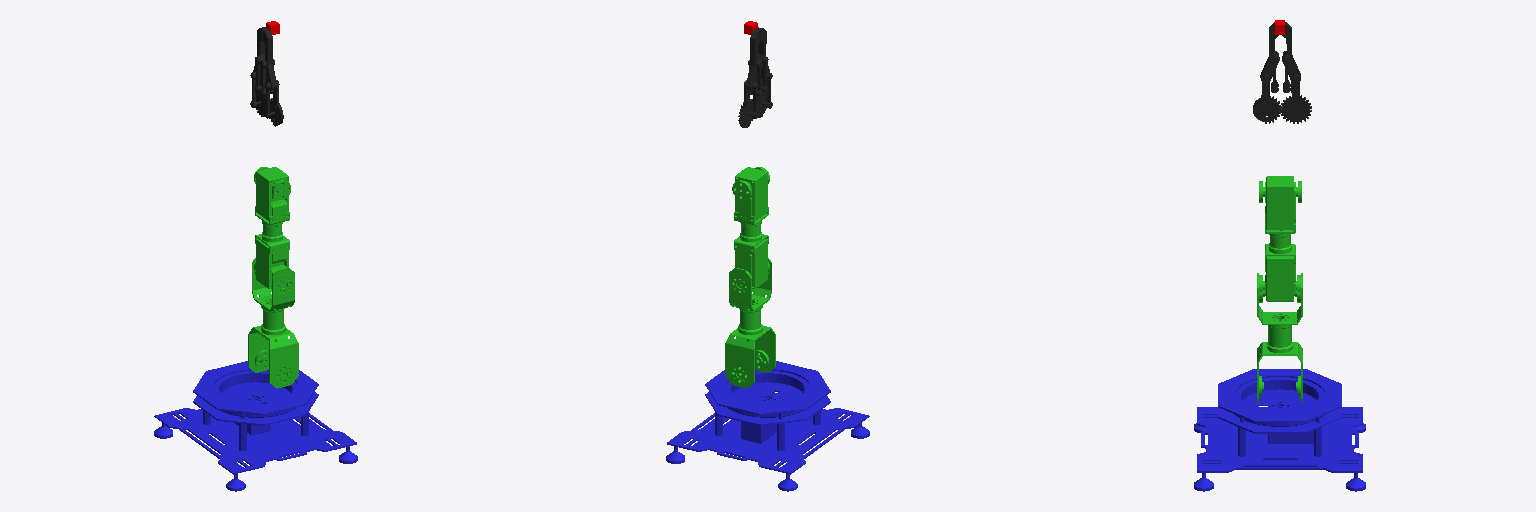
URDF robot description (xarm_controller_x):
<?xml version="1.0" ?>
<!-- =================================================================================== -->
<!-- |    This document was autogenerated by xacro from xarm_controller_x.urdf.xacro   | -->
<!-- |    EDITING THIS FILE BY HAND IS NOT RECOMMENDED                                 | -->
<!-- =================================================================================== -->
<robot name="xarm_controller_x">
  <link name="world"/>
  <joint name="world_fixed" type="fixed">
    <origin rpy="0 0 0" xyz="0 0 0"/>
    <parent link="world"/>
    <child link="base1"/>
  </joint>
  <!-- BASE -->
  <link name="base1">
    <visual>
      <origin rpy="0 0 0" xyz="-0.0725 0 0"/>
      <geometry>
        <mesh filename="package://xarm_controller_description/meshes/xarm_controller_x/base1.stl" scale="0.001 0.001 0.001"/>
      </geometry>
      <material name="blue">
        <color rgba="0.2 0.2 0.9 1"/>
      </material>
    </visual>
    <collision>
      <origin rpy="0 0 0" xyz="0 0 0"/>
      <geometry>
        <mesh filename="package://xarm_controller_description/meshes/xarm_controller_x/base1.stl" scale="0.001 0.001 0.001"/>
      </geometry>
    </collision>
  </link>
  <!-- Joint 1 :: base -to- link1 -->
  <joint name="joint1" type="revolute">
    <parent link="base1"/>
    <child link="link1"/>
    <origin rpy="0 0 0" xyz="0.0 0.0 0.063"/>
    <axis xyz="0 0 1"/>
    <limit effort="1000" lower="-2.7" upper="2.7" velocity="4.8"/>
    <dynamics damping="0.1"/>
  </joint>
  <!-- link1 -->
  <link name="link1">
    <visual>
      <origin rpy="0 0 0" xyz="-0.0405 -0.0405 0.0"/>
      <geometry>
        <mesh filename="package://xarm_controller_description/meshes/xarm_controller_x/link1.stl" scale="0.001 0.001 0.001"/>
      </geometry>
      <material name="red">
        <color rgba="0.8 0.2 0.2 1"/>
      </material>
    </visual>
    <collision>
      <origin rpy="0 0 0" xyz="0 0 0.0"/>
      <geometry>
        <mesh filename="package://xarm_controller_description/meshes/xarm_controller_x/link1.stl" scale="0.001 0.001 0.001"/>
      </geometry>
    </collision>
    <inertial>
      <origin xyz="-3.0184870e-04 5.4043684e-04 0.047433463999999995"/>
      <mass value="9.8406837e-02"/>
      <inertia ixx="3.4543422e-05" ixy="-1.6031095e-08" ixz="-3.8375155e-07" iyy="3.2689329e-05" iyz="2.8511935e-08" izz="1.8850320e-05"/>
    </inertial>
  </link>
  <!-- Joint 2 :: link1-to-link2 -->
  <joint name="joint2" type="revolute">
    <parent link="link1"/>
    <child link="link2"/>
    <origin rpy="0 0 0" xyz="0.02 0.0 0.02"/>
    <axis xyz="0 1 0"/>
    <limit effort="1000" lower="-1.5" upper="1.5" velocity="4.8"/>
    <dynamics damping="0.1"/>
  </joint>
  <!-- link2 -->
  <link name="link2">
    <visual>
      <origin rpy="0 0 0" xyz="-0.0095 0 -0.0138"/>
      <geometry>
        <mesh filename="package://xarm_controller_description/meshes/xarm_controller_x/link2.stl" scale="0.001 0.001 0.001"/>
      </geometry>
      <material name="green">
        <color rgba="0.2 0.8 0.2 1"/>
      </material>
    </visual>
    <collision>
      <origin rpy="0 0 0" xyz="0 0 0"/>
      <geometry>
        <mesh filename="package://xarm_controller_description/meshes/xarm_controller_x/link2.stl" scale="0.001 0.001 0.001"/>
      </geometry>
    </collision>
    <inertial>
      <origin xyz="1.0308393e-02 3.7743363e-04 1.0170197e-01"/>
      <mass value="1.3850917e-01"/>
      <inertia ixx="3.3055381e-04" ixy="-9.7940978e-08" ixz="-3.8505711e-05" iyy="3.4290447e-04" iyz="-1.5717516e-06" izz="6.0346498e-05"/>
    </inertial>
  </link>
  <!-- Joint 3 :: link2-to-link3-->
  <joint name="joint3" type="revolute">
    <parent link="link2"/>
    <child link="link3"/>
    <origin rpy="0 0 0" xyz="0.0 0 0.101"/>
    <axis xyz="0 1 0"/>
    <limit effort="1000" lower="-1.5" upper="1.5" velocity="4.8"/>
    <dynamics damping="0.1"/>
  </joint>
  <!-- link3 -->
  <link name="link3">
    <visual>
      <origin rpy="0 0 0" xyz="-0.01046 -0.01971 -0.01066"/>
      <geometry>
        <mesh filename="package://xarm_controller_description/meshes/xarm_controller_x/link3.stl" scale="0.001 0.001 0.001"/>
      </geometry>
      <material name="red">
        <color rgba="0.2 0.8 0.2 1"/>
      </material>
    </visual>
    <collision>
      <origin rpy="0 0 0" xyz="0 0 0"/>
      <geometry>
        <mesh filename="package://xarm_controller_description/meshes/xarm_controller_x/link3.stl" scale="0.001 0.001 0.001"/>
      </geometry>
    </collision>
    <inertial>
      <origin xyz="9.0909590e-02 3.8929816e-04 2.2413279e-04"/>
      <mass value="1.3274562e-01"/>
      <inertia ixx="3.0654178e-05" ixy="-1.2764155e-06" ixz="-2.6874417e-07" iyy="2.4230292e-04" iyz="1.1559550e-08" izz="2.5155057e-04"/>
    </inertial>
  </link>
  <!-- Joint 4 link3-to-link4-->
  <joint name="joint4" type="revolute">
    <parent link="link3"/>
    <child link="link4"/>
    <origin rpy="0 0 0" xyz="0.0 0.0 0.095"/>
    <axis xyz="0 1 0"/>
    <limit effort="1000" lower="-1.7" upper="1.7" velocity="4.8"/>
    <dynamics damping="0.1"/>
  </joint>
  <!-- link4 -->
  <link name="link4">
    <visual>
      <origin rpy="0 0 0" xyz="-0.0105 -0.0195 -0.012"/>
      <geometry>
        <mesh filename="package://xarm_controller_description/meshes/xarm_controller_x/link4.stl" scale="0.001 0.001 0.001"/>
      </geometry>
      <material name="green">
        <color rgba="0.2 0.8 0.2 1"/>
      </material>
    </visual>
    <collision>
      <origin rpy="0 0 0" xyz="0 0 0"/>
      <geometry>
        <mesh filename="package://xarm_controller_description/meshes/xarm_controller_x/link4.stl" scale="0.001 0.001 0.001"/>
      </geometry>
    </collision>
    <inertial>
      <origin xyz="4.4206755e-02 3.6839985e-07 8.9142216e-03"/>
      <mass value="1.4327573e-01"/>
      <inertia ixx="8.0870749e-05" ixy="0.0" ixz="-1.0157896e-06" iyy="7.5980465e-05" iyz="0.0" izz="9.3127351e-05"/>
    </inertial>
  </link>
  <!-- Joint 5 :: link4-to-link5-->
  <joint name="joint5" type="revolute">
    <parent link="link4"/>
    <child link="link5"/>
    <origin rpy="0 0 0" xyz="0.0 0.0 0.068"/>
    <axis xyz="0 0 1"/>
    <limit effort="1000" lower="-1.7" upper="1.7" velocity="4.8"/>
    <dynamics damping="0.1"/>
  </joint>
  <!-- Link 5: Wrist Spacer -->
  <link name="link5">
    <visual>
      <origin rpy="0 0 0" xyz="-0.0015 -0.0085 -0.0168"/>
      <geometry>
        <mesh filename="package://xarm_controller_description/meshes/xarm_controller_x/link5.stl" scale="0.001 0.001 0.001"/>
      </geometry>
      <material name="red">
        <color rgba="1.0 0.0 0.0 1"/>
      </material>
    </visual>
    <collision>
      <origin rpy="0 1.5708 0" xyz="0 0 0"/>
      <geometry>
        <mesh filename="package://xarm_controller_description/meshes/xarm_controller_x/link5.stl" scale="0.001 0.001 0.001"/>
      </geometry>
    </collision>
    <inertial>
      <origin xyz="4.4206755e-02 3.6839985e-07 8.9142216e-03"/>
      <mass value="1.4327573e-01"/>
      <inertia ixx="8.0870749e-05" ixy="0.0" ixz="-1.0157896e-06" iyy="7.5980465e-05" iyz="0.0" izz="9.3127351e-05"/>
    </inertial>
  </link>
  <!-- Joint 6 Left Gripper -->
  <joint name="joint6" type="revolute">
    <parent link="link5"/>
    <child link="gripper_left_link"/>
    <origin rpy="0 0 0" xyz="-0.0155 -0.013 0.015"/>
    <axis xyz="1 0 0"/>
    <limit effort="1000" lower="0" upper="1.5708" velocity="4.8"/>
    <dynamics damping="0.1"/>
  </joint>
  <!-- Left Gripper Link -->
  <link name="gripper_left_link">
    <visual>
      <origin rpy="0 0 0" xyz="0 0 0"/>
      <geometry>
        <mesh filename="package://xarm_controller_description/meshes/xarm_controller_x/gripper_left.stl" scale="0.001 0.001 0.001"/>
      </geometry>
      <material name="grey">
        <color rgba="0.2 0.2 0.2 1"/>
      </material>
    </visual>
    <collision>
      <origin rpy="0 0 0" xyz="0 0 0"/>
      <geometry>
        <mesh filename="package://xarm_controller_description/meshes/xarm_controller_x/gripper_left.stl" scale="0.001 0.001 0.001"/>
      </geometry>
    </collision>
    <inertial>
      <origin xyz="0 0 0"/>
      <mass value="0.001"/>
      <inertia ixx="1.0e-06" ixy="0" ixz="0" iyy="1.0e-06" iyz="0" izz="1.0e-06"/>
    </inertial>
  </link>
  <!-- Right Gripper Joint: Mimic of Left Gripper -->
  <joint name="joint6_right_joint" type="revolute">
    <parent link="link5"/>
    <child link="gripper_right_link"/>
    <origin rpy="0 0 0" xyz="-0.0155 0.012 0.015"/>
    <axis xyz="1 0 0"/>
    <limit effort="1000" lower="-1.5708" upper="0" velocity="4.8"/>
    <dynamics damping="0.1"/>
    <mimic joint="joint6" multiplier="-1"/>
  </joint>
  <!-- Right Gripper Link -->
  <link name="gripper_right_link">
    <visual>
      <origin rpy="0 0 0" xyz="0 0 0"/>
      <geometry>
        <mesh filename="package://xarm_controller_description/meshes/xarm_controller_x/gripper_right.stl" scale="0.001 0.001 0.001"/>
      </geometry>
      <material name="grey">
        <color rgba="0.2 0.2 0.2 1"/>
      </material>
    </visual>
    <collision>
      <origin rpy="0 0 0" xyz="0 0 0"/>
      <geometry>
        <mesh filename="package://xarm_controller_description/meshes/xarm_controller_x/gripper_right.stl" scale="0.001 0.001 0.001"/>
      </geometry>
    </collision>
    <inertial>
      <origin xyz="0 0 0"/>
      <mass value="0.001"/>
      <inertia ixx="1.0e-06" ixy="0" ixz="0" iyy="1.0e-06" iyz="0" izz="1.0e-06"/>
    </inertial>
  </link>
  <joint name="end_effector_joint" type="fixed">
    <parent link="link5"/>
    <child link="end_effector_link"/>
    <origin rpy="0 0 0" xyz="0.0 0.0 0.1"/>
  </joint>
  <link name="end_effector_link">
    <visual>
      <origin rpy="0 0 0" xyz="0 0 0"/>
      <geometry>
        <box size="0.01 0.01 0.01"/>
      </geometry>
      <material name="red">
        <color rgba="1.0 0.0 0.0 1"/>
      </material>
    </visual>
  </link>
  <gazebo reference="link1">
    <kp>1000000.0</kp>
    <kd>100.0</kd>
    <mu1>30.0</mu1>
    <mu2>30.0</mu2>
    <maxVel>1.0</maxVel>
    <minDepth>0.001</minDepth>
  </gazebo>
  <gazebo reference="link2">
    <kp>1000000.0</kp>
    <kd>100.0</kd>
    <mu1>30.0</mu1>
    <mu2>30.0</mu2>
    <maxVel>1.0</maxVel>
    <minDepth>0.001</minDepth>
  </gazebo>
  <gazebo reference="link3">
    <kp>1000000.0</kp>
    <kd>100.0</kd>
    <mu1>30.0</mu1>
    <mu2>30.0</mu2>
    <maxVel>1.0</maxVel>
    <minDepth>0.001</minDepth>
  </gazebo>
  <gazebo reference="link4">
    <kp>1000000.0</kp>
    <kd>100.0</kd>
    <mu1>30.0</mu1>
    <mu2>30.0</mu2>
    <maxVel>1.0</maxVel>
    <minDepth>0.001</minDepth>
  </gazebo>
  <gazebo reference="link5">
    <kp>1000000.0</kp>
    <kd>100.0</kd>
    <mu1>30.0</mu1>
    <mu2>30.0</mu2>
    <maxVel>1.0</maxVel>
    <minDepth>0.001</minDepth>
  </gazebo>
  <gazebo reference="gripper_left_link">
    <kp>1000000.0</kp>
    <kd>100.0</kd>
    <mu1>30.0</mu1>
    <mu2>30.0</mu2>
    <maxVel>1.0</maxVel>
    <minDepth>0.001</minDepth>
  </gazebo>
  <gazebo reference="gripper_right_link">
    <kp>1000000.0</kp>
    <kd>100.0</kd>
    <mu1>30.0</mu1>
    <mu2>30.0</mu2>
    <maxVel>1.0</maxVel>
    <minDepth>0.001</minDepth>
  </gazebo>
  <gazebo reference="end_effector_link">
  </gazebo>
  <transmission name="trans1">
    <type>transmission_interface/SimpleTransmission</type>
    <joint name="joint1">
      <hardwareInterface>PositionJointInterface</hardwareInterface>
    </joint>
    <actuator name="actuator1">
      <mechanicalReduction>1</mechanicalReduction>
      <hardwareInterface>PositionJointInterface</hardwareInterface>
    </actuator>
  </transmission>
  <transmission name="trans2">
    <type>transmission_interface/SimpleTransmission</type>
    <joint name="joint2">
      <hardwareInterface>PositionJointInterface</hardwareInterface>
    </joint>
    <actuator name="actuator2">
      <mechanicalReduction>1</mechanicalReduction>
      <hardwareInterface>PositionJointInterface</hardwareInterface>
    </actuator>
  </transmission>
  <transmission name="trans3">
    <type>transmission_interface/SimpleTransmission</type>
    <joint name="joint3">
      <hardwareInterface>PositionJointInterface</hardwareInterface>
    </joint>
    <actuator name="actuator3">
      <mechanicalReduction>1</mechanicalReduction>
      <hardwareInterface>PositionJointInterface</hardwareInterface>
    </actuator>
  </transmission>
  <transmission name="trans4">
    <type>transmission_interface/SimpleTransmission</type>
    <joint name="joint4">
      <hardwareInterface>PositionJointInterface</hardwareInterface>
    </joint>
    <actuator name="actuator4">
      <mechanicalReduction>1</mechanicalReduction>
      <hardwareInterface>PositionJointInterface</hardwareInterface>
    </actuator>
  </transmission>
  <transmission name="trans5">
    <type>transmission_interface/SimpleTransmission</type>
    <joint name="gripper_left_joint">
      <hardwareInterface>PositionJointInterface</hardwareInterface>
    </joint>
    <actuator name="actuator5">
      <mechanicalReduction>1</mechanicalReduction>
      <hardwareInterface>PositionJointInterface</hardwareInterface>
    </actuator>
  </transmission>
  <transmission name="trans6">
    <type>transmission_interface/SimpleTransmission</type>
    <joint name="gripper_right_joint">
      <hardwareInterface>PositionJointInterface</hardwareInterface>
    </joint>
    <actuator name="actuator6">
      <mechanicalReduction>1</mechanicalReduction>
      <hardwareInterface>PositionJointInterface</hardwareInterface>
    </actuator>
  </transmission>
  <ros2_control name="XarmControllerXSystem" type="system">
    <hardware>
      <plugin>dynamixel_hardware_interface/DynamixelHardware</plugin>
      <param name="port_name">/dev/ttyUSB0</param>
      <param name="baud_rate">1000000</param>
      <param name="error_timeout_ms">500</param>
      <param name="dynamixel_model_folder">/param/dxl_model</param>
      <param name="number_of_joints">5</param>
      <param name="number_of_transmissions">5</param>
      <param name="disable_torque_at_init">true</param>
      <param name="dynamixel_state_pub_msg_name">dynamixel_hardware_interface/dxl_state</param>
      <param name="get_dynamixel_data_srv_name">dynamixel_hardware_interface/get_dxl_data</param>
      <param name="set_dynamixel_data_srv_name">dynamixel_hardware_interface/set_dxl_data</param>
      <param name="reboot_dxl_srv_name">dynamixel_hardware_interface/reboot_dxl</param>
      <param name="set_dxl_torque_srv_name">dynamixel_hardware_interface/set_dxl_torque</param>
    </hardware>
    <joint name="joint1">
      <command_interface name="position"/>
      <state_interface name="position"/>
      <state_interface name="velocity"/>
      <state_interface name="effort"/>
    </joint>
    <joint name="joint2">
      <command_interface name="position"/>
      <state_interface name="position"/>
      <state_interface name="velocity"/>
      <state_interface name="effort"/>
    </joint>
    <joint name="joint3">
      <command_interface name="position"/>
      <state_interface name="position"/>
      <state_interface name="velocity"/>
      <state_interface name="effort"/>
    </joint>
    <joint name="joint4">
      <command_interface name="position"/>
      <state_interface name="position"/>
      <state_interface name="velocity"/>
      <state_interface name="effort"/>
    </joint>
    <joint name="gripper_left_joint">
      <command_interface name="position"/>
      <state_interface name="position"/>
      <state_interface name="velocity"/>
      <state_interface name="effort"/>
    </joint>
    <gpio name="dxl1">
      <param name="type">dxl</param>
      <param name="ID">11</param>
      <command_interface name="Goal Position"/>
      <state_interface name="Present Position"/>
      <state_interface name="Present Velocity"/>
      <state_interface name="Present Current"/>
      <param name="Operating Mode">3</param>
      <param name="Position P Gain">800</param>
      <param name="Position I Gain">100</param>
      <param name="Position D Gain">100</param>
      <param name="Profile Velocity">20</param>
      <param name="Profile Acceleration">10</param>
      <param name="Drive Mode">4</param>
      <param name="Return Delay Time">0</param>
    </gpio>
    <gpio name="dxl2">
      <param name="type">dxl</param>
      <param name="ID">12</param>
      <command_interface name="Goal Position"/>
      <state_interface name="Present Position"/>
      <state_interface name="Present Velocity"/>
      <state_interface name="Present Current"/>
      <param name="Operating Mode">3</param>
      <param name="Position P Gain">800</param>
      <param name="Position I Gain">100</param>
      <param name="Position D Gain">100</param>
      <param name="Profile Velocity">20</param>
      <param name="Profile Acceleration">10</param>
      <param name="Drive Mode">4</param>
      <param name="Return Delay Time">0</param>
    </gpio>
    <gpio name="dxl3">
      <param name="type">dxl</param>
      <param name="ID">13</param>
      <command_interface name="Goal Position"/>
      <state_interface name="Present Position"/>
      <state_interface name="Present Velocity"/>
      <state_interface name="Present Current"/>
      <param name="Operating Mode">3</param>
      <param name="Position P Gain">800</param>
      <param name="Position I Gain">100</param>
      <param name="Position D Gain">100</param>
      <param name="Profile Velocity">20</param>
      <param name="Profile Acceleration">10</param>
      <param name="Drive Mode">4</param>
      <param name="Return Delay Time">0</param>
    </gpio>
    <gpio name="dxl4">
      <param name="type">dxl</param>
      <param name="ID">14</param>
      <command_interface name="Goal Position"/>
      <state_interface name="Present Position"/>
      <state_interface name="Present Velocity"/>
      <state_interface name="Present Current"/>
      <param name="Operating Mode">3</param>
      <param name="Position P Gain">800</param>
      <param name="Position I Gain">100</param>
      <param name="Position D Gain">100</param>
      <param name="Profile Velocity">20</param>
      <param name="Profile Acceleration">10</param>
      <param name="Drive Mode">4</param>
      <param name="Return Delay Time">0</param>
    </gpio>
    <gpio name="dxl5">
      <param name="type">dxl</param>
      <param name="ID">15</param>
      <command_interface name="Goal Position"/>
      <state_interface name="Present Position"/>
      <state_interface name="Present Velocity"/>
      <state_interface name="Present Current"/>
      <param name="Operating Mode">5</param>
      <param name="Profile Velocity">20</param>
      <param name="Profile Acceleration">10</param>
      <param name="Drive Mode">5</param>
      <param name="Return Delay Time">0</param>
      <param name="Goal Current">200</param>
      <param name="[unit info]">
          Present Position,0.000017626621790,m,signed,-0.036099321;
          Goal Position,0.000017626621790,m,signed,-0.036099321;
          Present Velocity,0.000275558153557,rad/s,signed,0.0;
          Goal Velocity,0.000275558153557,rad/s,signed,0.0;
        </param>
    </gpio>
  </ros2_control>
  <gazebo>
    <plugin filename="gz_ros2_control-system" name="gz_ros2_control::GazeboSimROS2ControlPlugin">
      <parameters>/home/vint/open_manipulator_ws/install/open_manipulator_bringup/share/open_manipulator_bringup/config/xarm_controller_x/hardware_controller_manager.yaml</parameters>
    </plugin>
  </gazebo>
</robot>

--- Render facts (derived) ---
Views: 3 orthographic renders of the robot side by side, from view 1: azimuth 30°, elevation 25°; view 2: azimuth 150°, elevation 25°; view 3: azimuth 270°, elevation 25°.
Robot: xarm_controller_x — 10 links, 9 joints (7 revolute, 2 fixed); root link world; default pose: all joints at 0.
Visible links, largest first — view 1: base1, link2, link3, gripper_left_link, gripper_right_link; view 2: base1, link2, link3, gripper_right_link, gripper_left_link; view 3: base1, link3, link2, gripper_right_link, gripper_left_link.
Link boxes in pixels (x1,y1,x2,y2): base1: [154, 361, 357, 491]; link2: [248, 258, 298, 388]; link3: [254, 167, 290, 288]; gripper_left_link: [260, 29, 283, 126]; gripper_right_link: [250, 27, 266, 116]; base1: [666, 361, 869, 491]; link2: [725, 258, 775, 388]; link3: [732, 167, 769, 288]; gripper_right_link: [738, 29, 762, 127]; gripper_left_link: [756, 27, 772, 117]; base1: [1194, 369, 1365, 491]; link3: [1259, 176, 1301, 301]; link2: [1257, 273, 1302, 402]; gripper_right_link: [1280, 22, 1311, 123]; gripper_left_link: [1253, 22, 1281, 123].
Bounding box of the posed robot: 0.1453 × 0.1594 × 0.452 m (x, y, z).
5 mesh visuals loaded from 8 distinct referenced files (5 binary STL); not drawn: 3 (reference not matched to a file when rendering).
